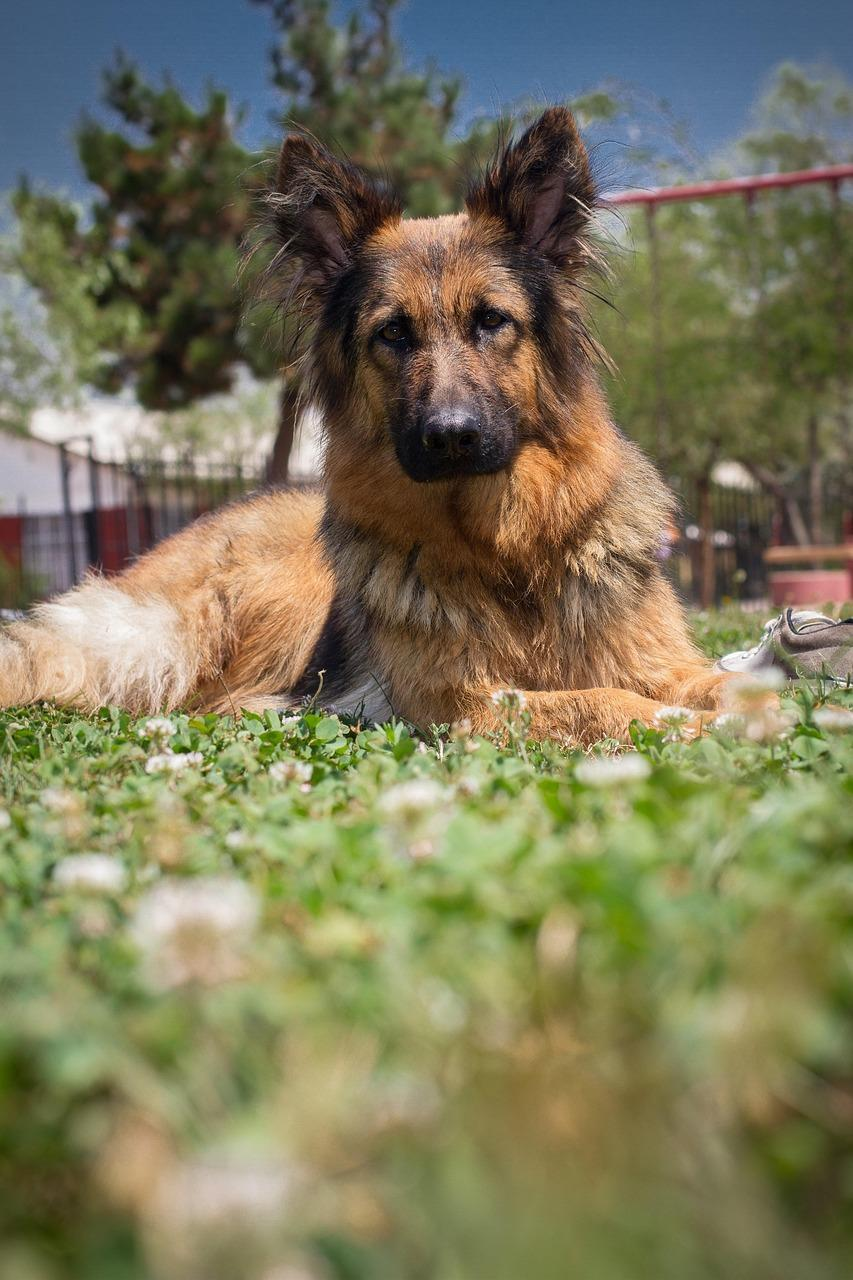german_shepherd: (262, 130, 608, 531)
